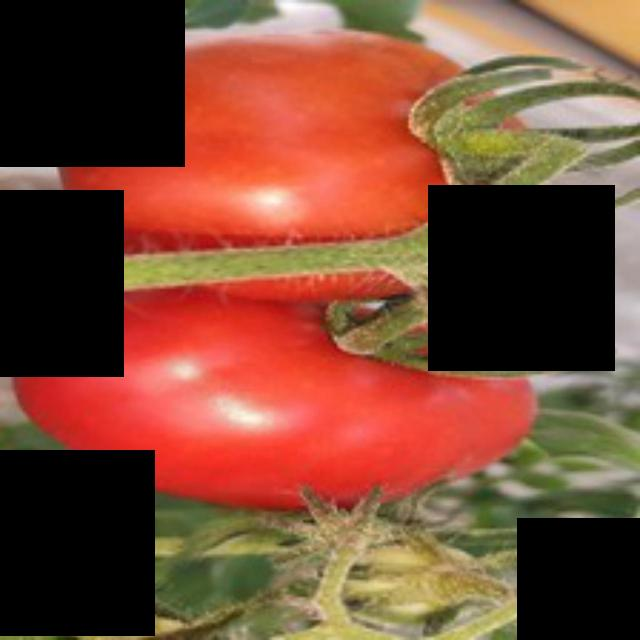tomato: (17, 252, 539, 509), (58, 18, 534, 287)
